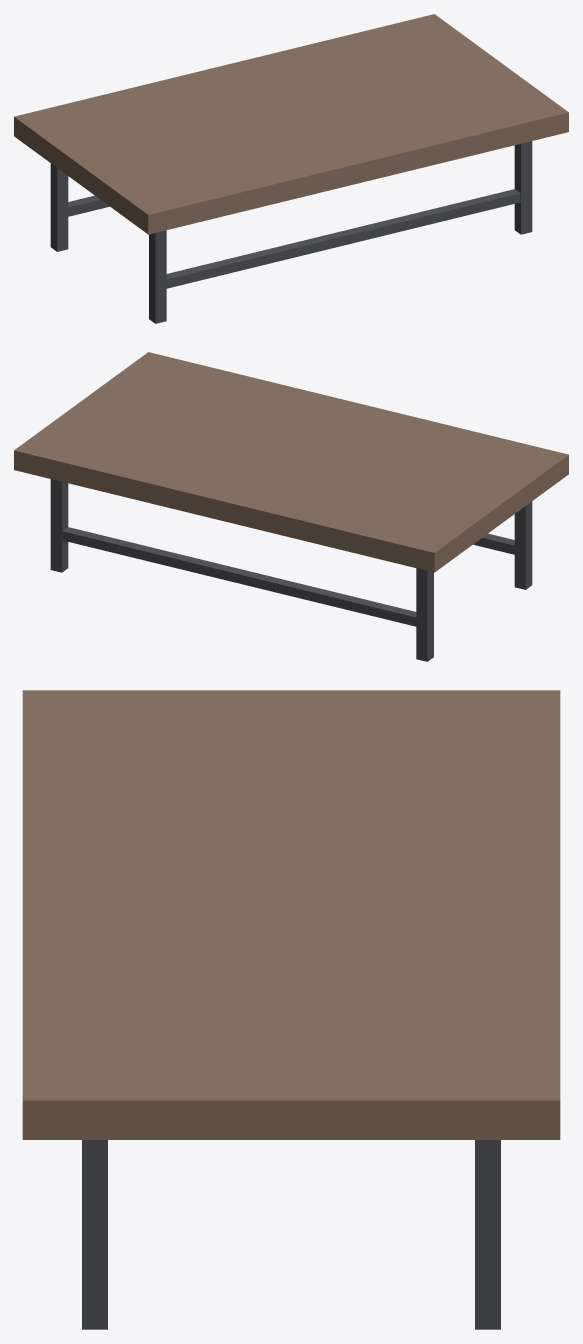
File: nexus-coffee-table.glb
3 views of the same model, one above another, from view 1: azimuth 30°, elevation 25°; view 2: azimuth 150°, elevation 25°; view 3: azimuth 270°, elevation 25° (orthographic). The views are drawn at different scales.
Parts seen in each view (by area): view 1: solid oak tabletop, lower stretcher 0.34, steel leg 0.73 0.34, steel leg -0.73 0.34, steel leg -0.73 -0.34, lower stretcher -0.34; view 2: solid oak tabletop, lower stretcher -0.34, steel leg 0.73 -0.34, steel leg -0.73 -0.34, steel leg -0.73 0.34, lower stretcher 0.34; view 3: solid oak tabletop, steel leg 0.73 -0.34, steel leg 0.73 0.34.
Part boxes in pixels (left/top/right/bottom): solid oak tabletop: left=14, top=14, right=568, bottom=234; lower stretcher 0.34: left=166, top=189, right=520, bottom=288; steel leg 0.73 0.34: left=514, top=141, right=532, bottom=234; steel leg -0.73 0.34: left=149, top=230, right=166, bottom=323; steel leg -0.73 -0.34: left=50, top=163, right=68, bottom=251; lower stretcher -0.34: left=68, top=195, right=109, bottom=216; solid oak tabletop: left=14, top=352, right=568, bottom=572; lower stretcher -0.34: left=62, top=527, right=416, bottom=626; steel leg 0.73 -0.34: left=50, top=479, right=68, bottom=572; steel leg -0.73 -0.34: left=416, top=568, right=433, bottom=661; steel leg -0.73 0.34: left=514, top=501, right=532, bottom=589; lower stretcher 0.34: left=473, top=533, right=514, bottom=554; solid oak tabletop: left=22, top=690, right=560, bottom=1139; steel leg 0.73 -0.34: left=475, top=1140, right=500, bottom=1329; steel leg 0.73 0.34: left=82, top=1140, right=107, bottom=1329.
Size of the model in its own units: 1.68 by 0.4775 by 0.93.
